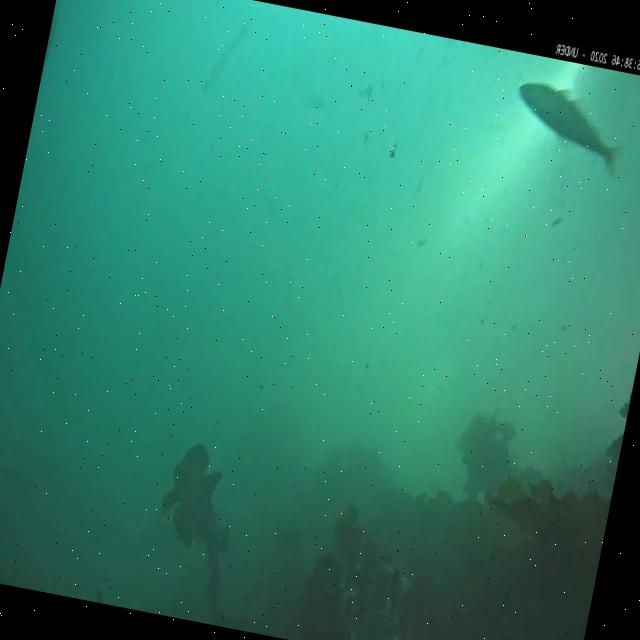fish: (506, 78, 630, 175)
